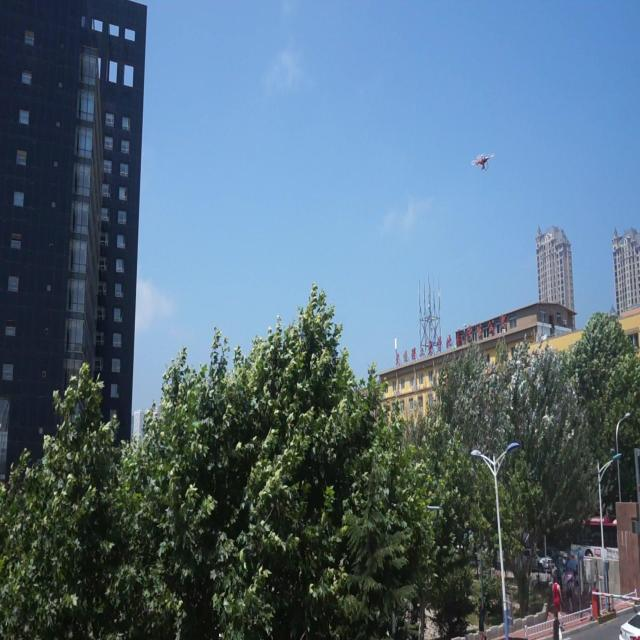drone: (472, 150, 495, 172)
